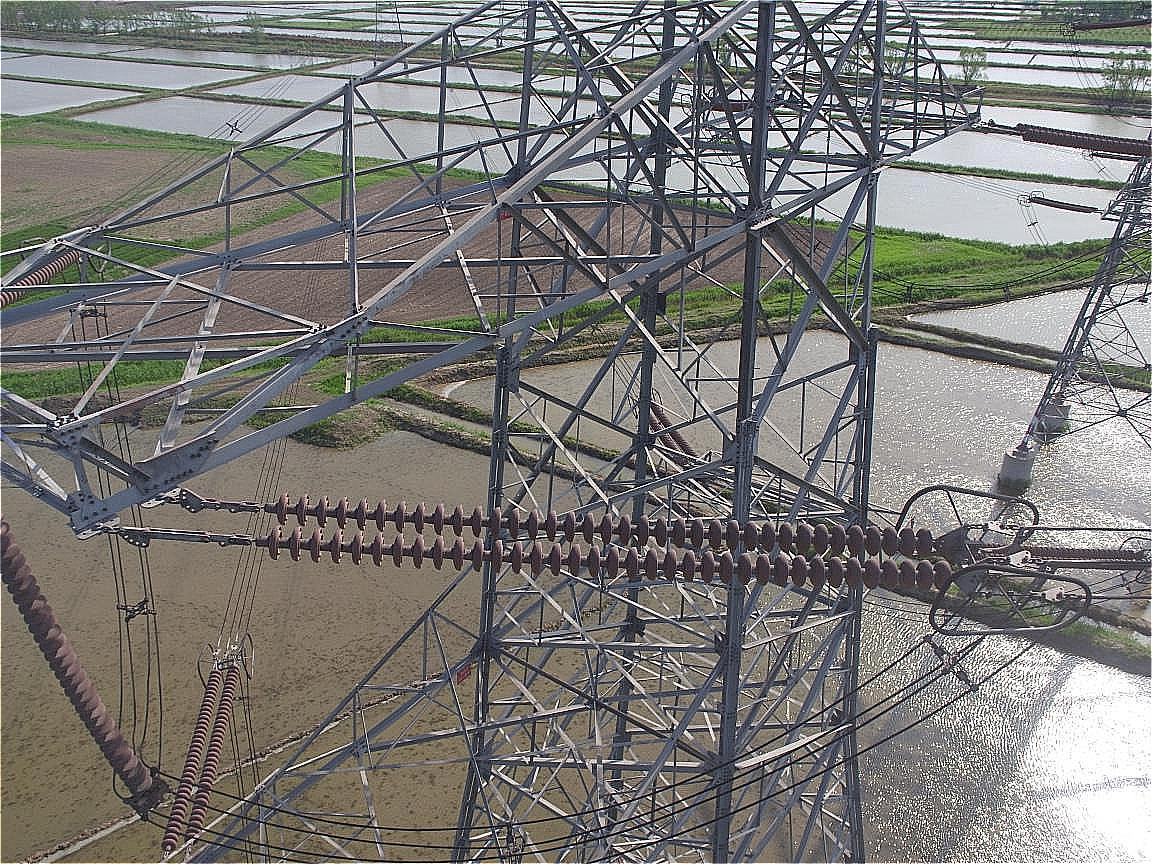insultor1: (188, 491, 972, 598)
